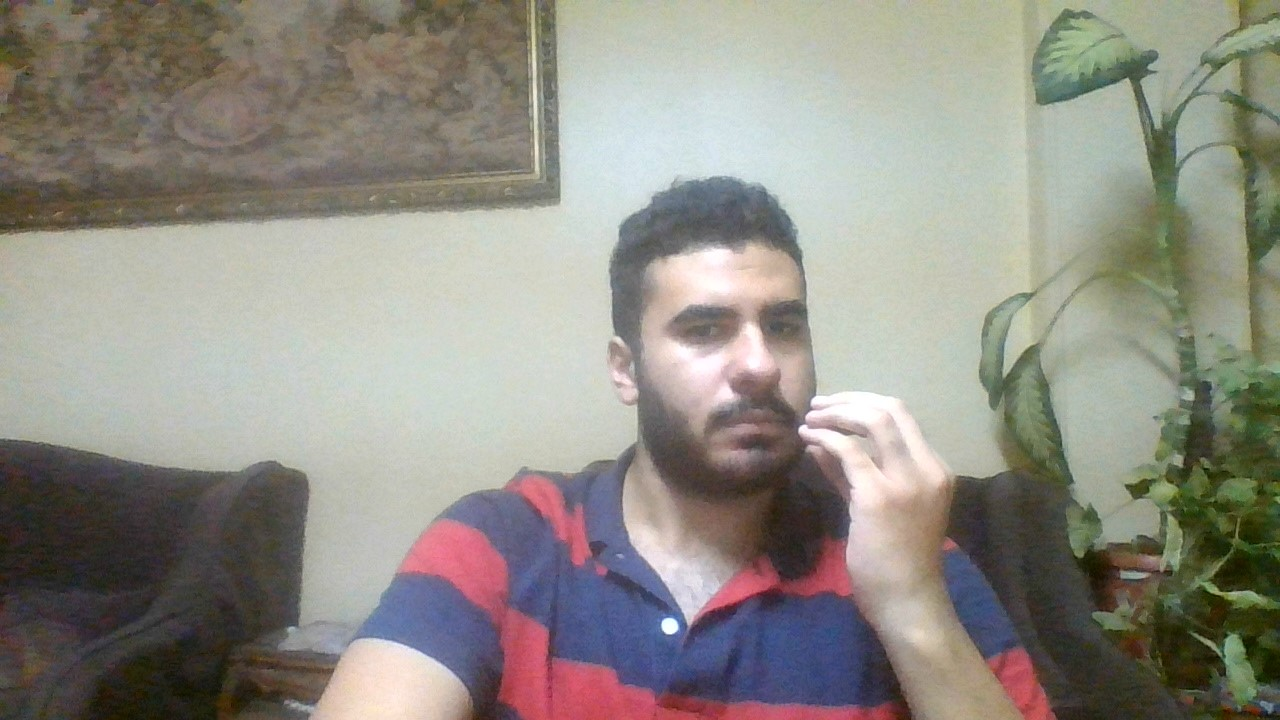eat: (797, 383, 971, 617)
